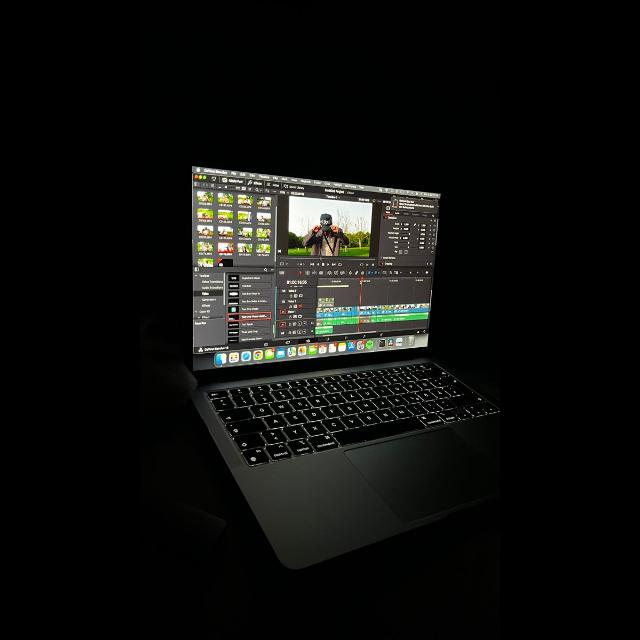laptop: (156, 154, 500, 578)
